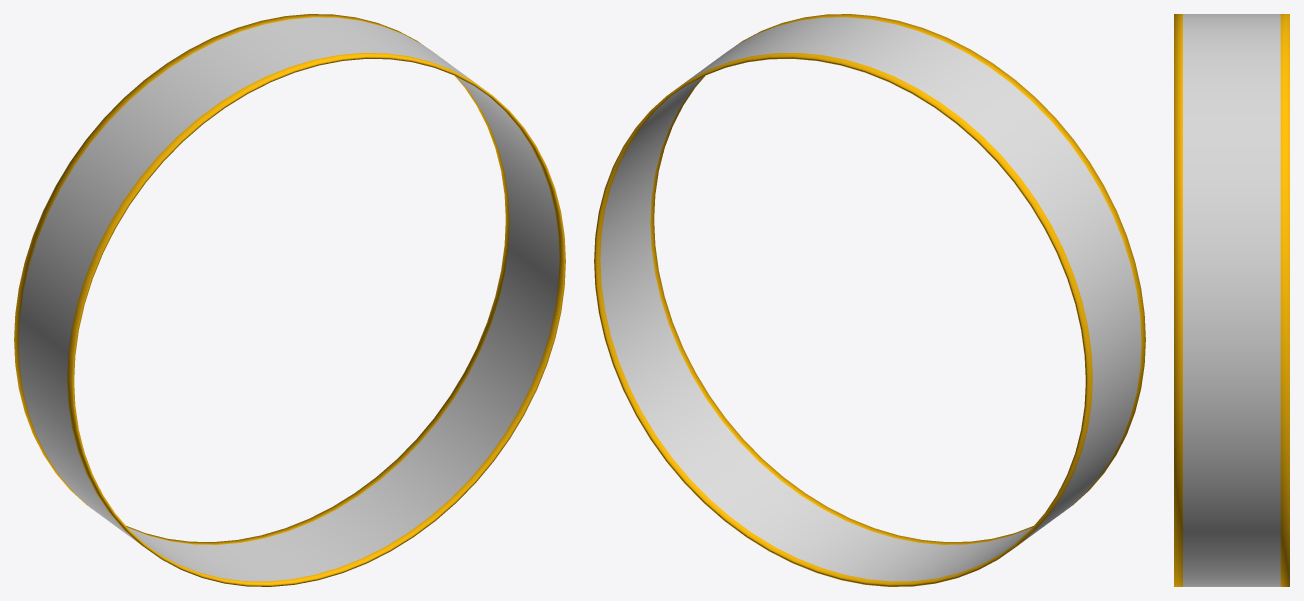
Rendered from NormalNote15.fbx.
3 views of the same model, side by side, from view 1: azimuth 30°, elevation 25°; view 2: azimuth 150°, elevation 25°; view 3: azimuth 270°, elevation 25° (orthographic).
Visible parts, largest first — view 1: NormalNote15; view 2: NormalNote15; view 3: NormalNote15.
Part boxes in pixels (x1,y1,x2,y2): NormalNote15: [14, 14, 565, 586]; NormalNote15: [594, 14, 1145, 586]; NormalNote15: [1174, 14, 1289, 586].
Bounding box in the file's own units: 198 × 40 × 198.
